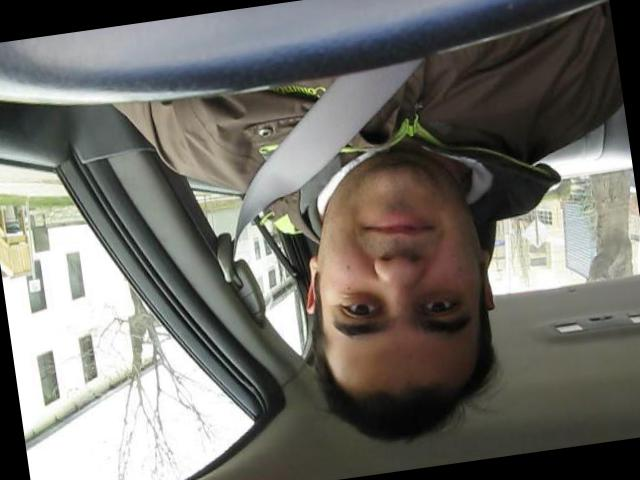eye_open: (332, 291, 386, 326), (416, 291, 464, 323)
face: (304, 153, 483, 373)
